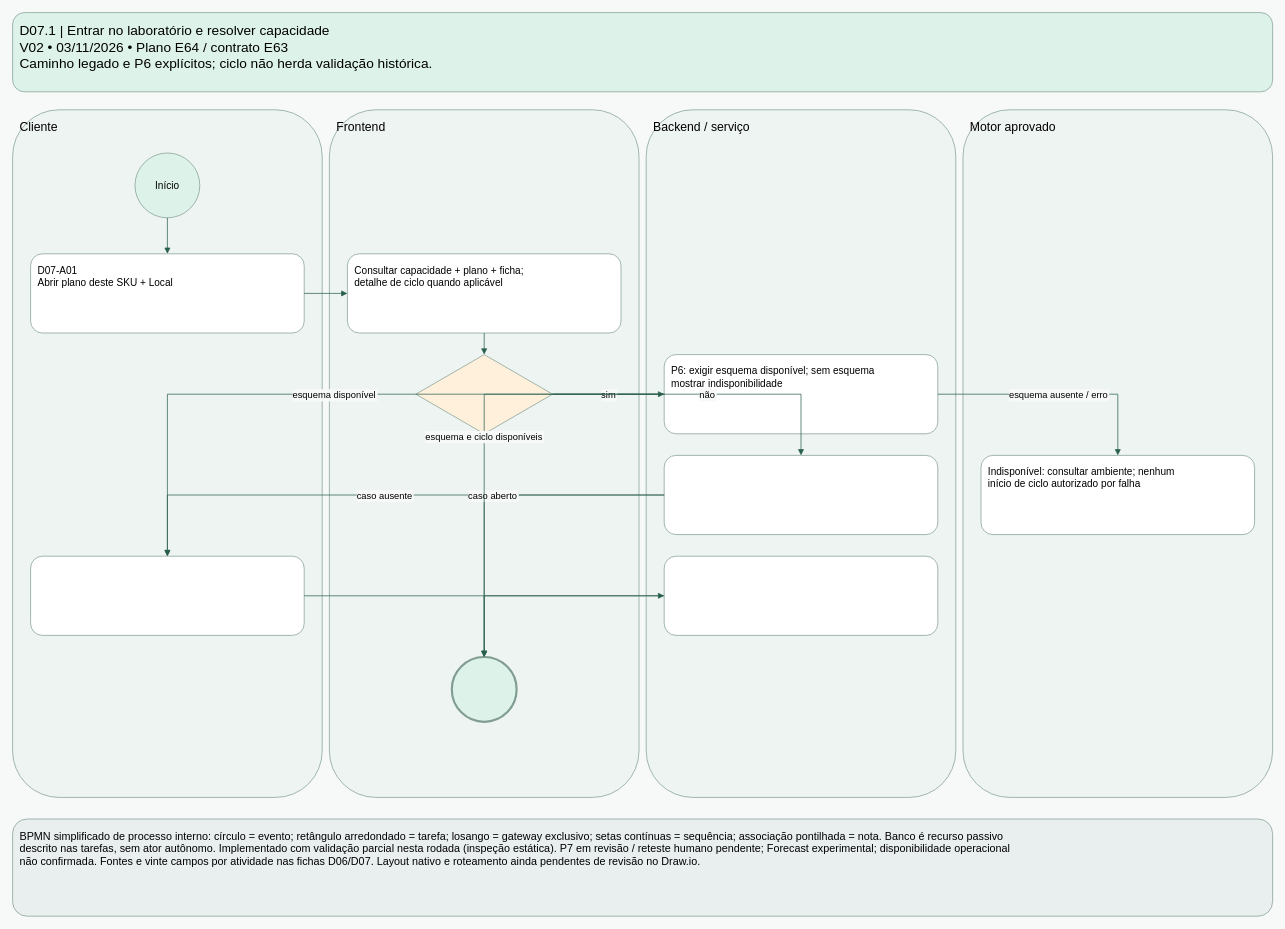
Image size: 1285x929. Some labels were removed from this diagram. The centre of each missing label's shape, as x and y in pixels:
D07-A02 Iniciar análise ou adotar caso legado explicitamente: the point at 167,595
D07.2: the point at 483,689
Legado: iniciar/consultar caso WorkHead existente bloqueia comando legado: the point at 800,495
P6 habilitada?: the point at 484,394
Transação: criar/adotar caso e ciclo; preservar histórico / evento: the point at 800,595
